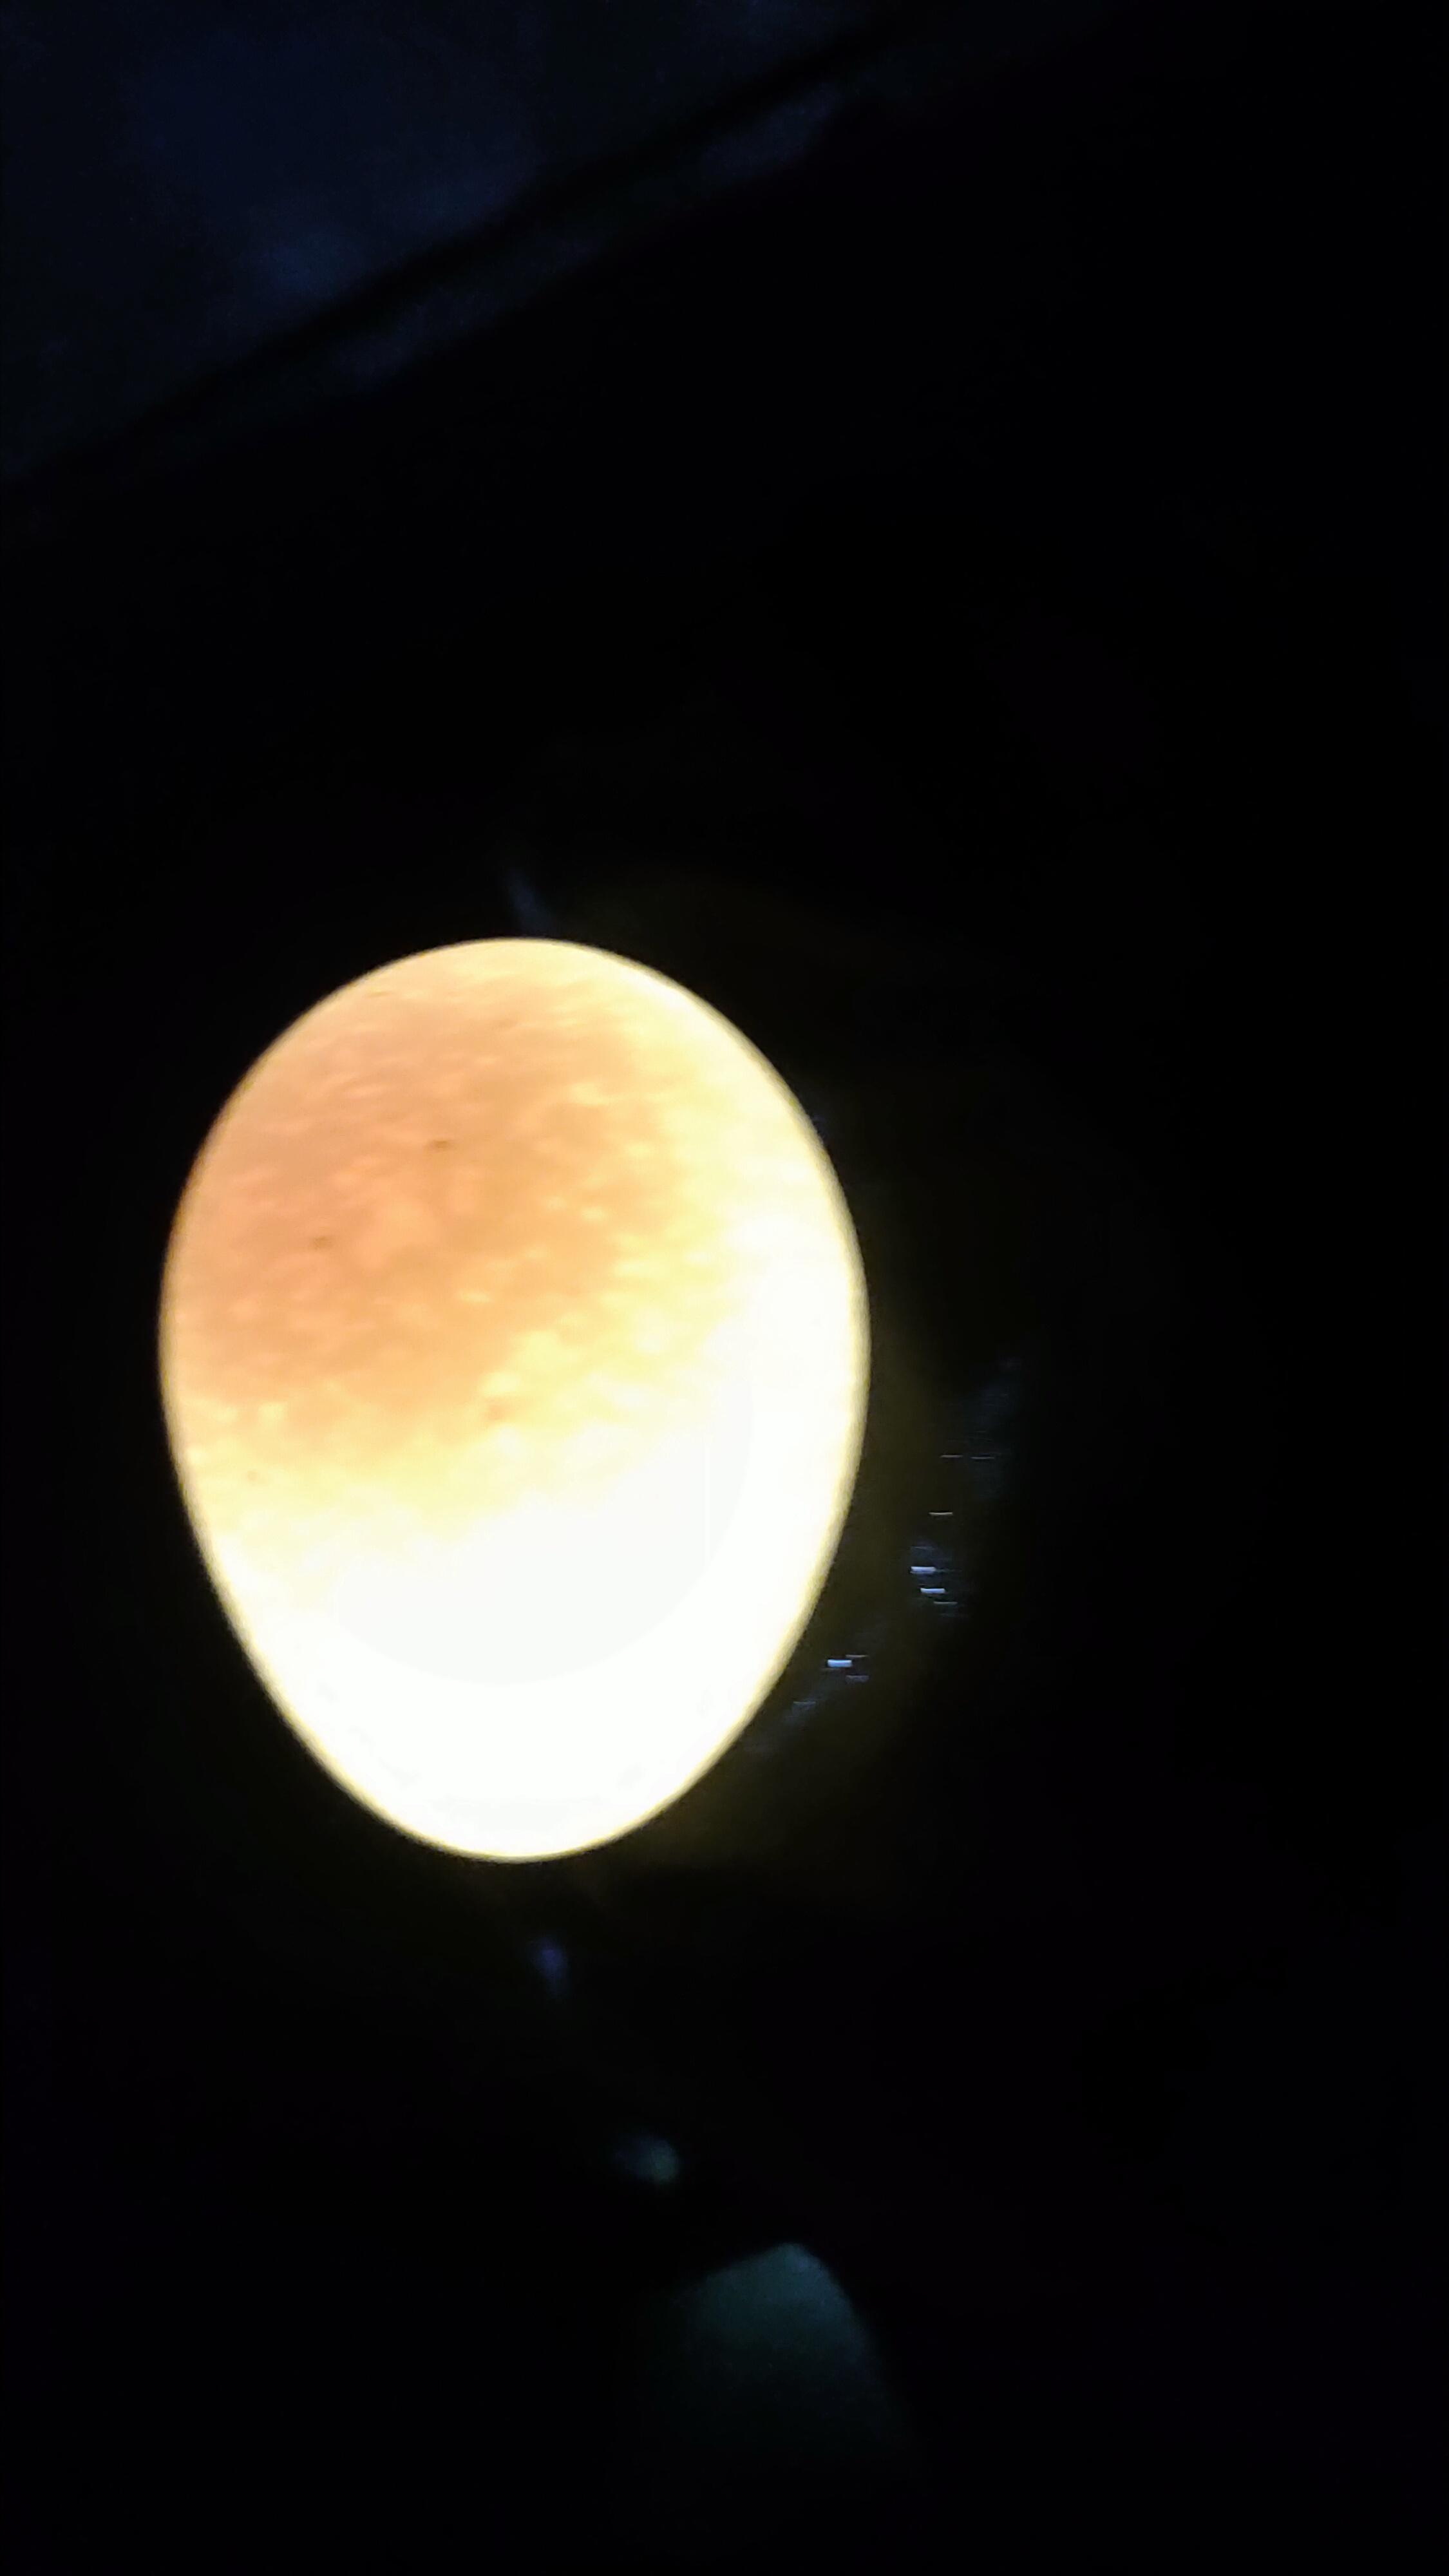Inedible: (129, 927, 922, 1905)
